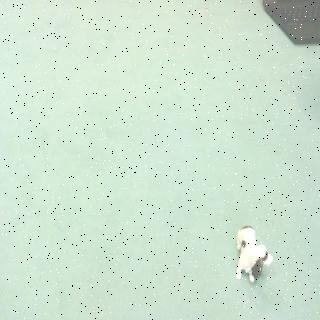dog: (229, 222, 278, 286)
